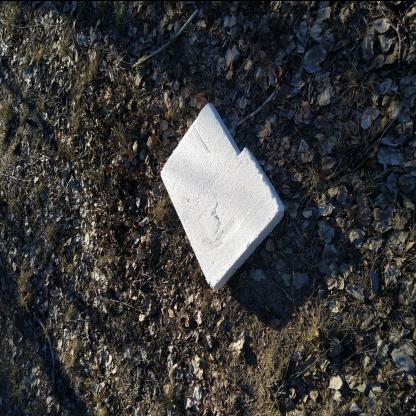kopuk: (160, 103, 285, 289)
